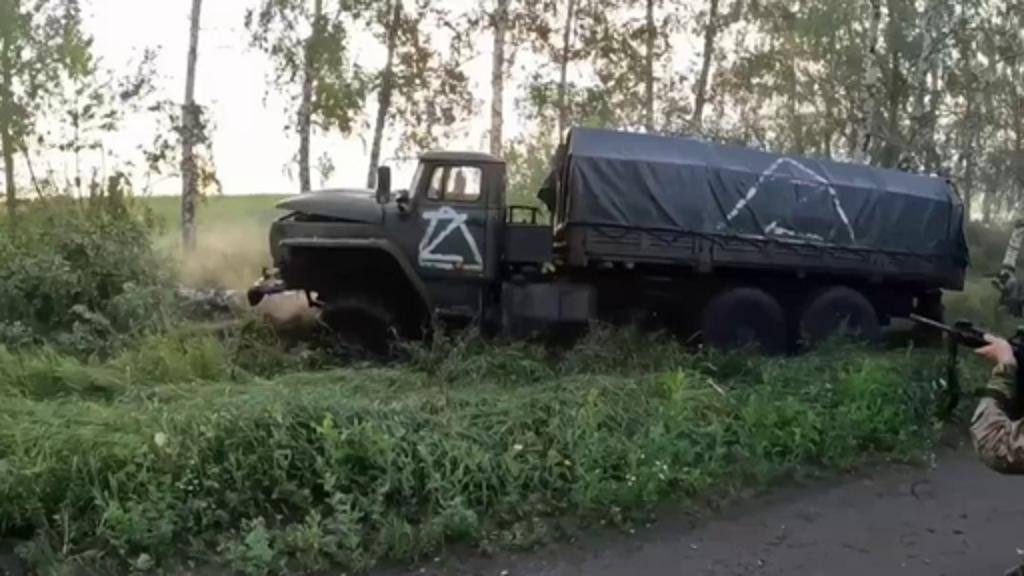TRUCK: (220, 108, 962, 374)
